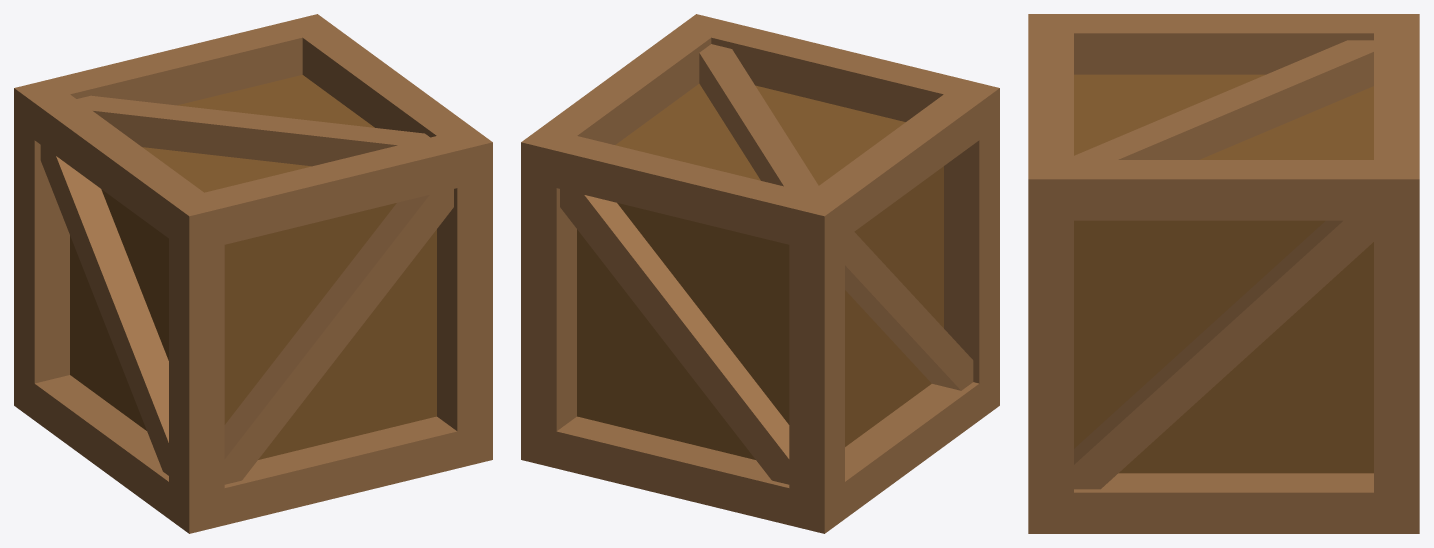
3 renders of one model, left to right at view 1: azimuth 30°, elevation 25°; view 2: azimuth 150°, elevation 25°; view 3: azimuth 270°, elevation 25°, orthographic. The views are drawn at different scales.
Parts seen in each view (by area): view 1: crate_outer, crate_support.001, crate_support.002, crate_support.003; view 2: crate_outer, crate_support.001, crate_support.002, crate_support.003; view 3: crate_outer, crate_support.002, crate_support.003.
Part boxes in pixels (x1,y1,x2,y2): crate_outer: (14, 14, 492, 533); crate_support.001: (224, 55, 453, 484); crate_support.002: (40, 145, 168, 475); crate_support.003: (77, 95, 429, 166); crate_outer: (521, 14, 999, 533); crate_support.001: (560, 189, 789, 484); crate_support.002: (845, 232, 973, 390); crate_support.003: (699, 44, 818, 192); crate_outer: (1028, 14, 1419, 533); crate_support.002: (1074, 220, 1373, 489); crate_support.003: (1074, 40, 1373, 159).
Bounding box in the file's own units: 280 × 280 × 280.
